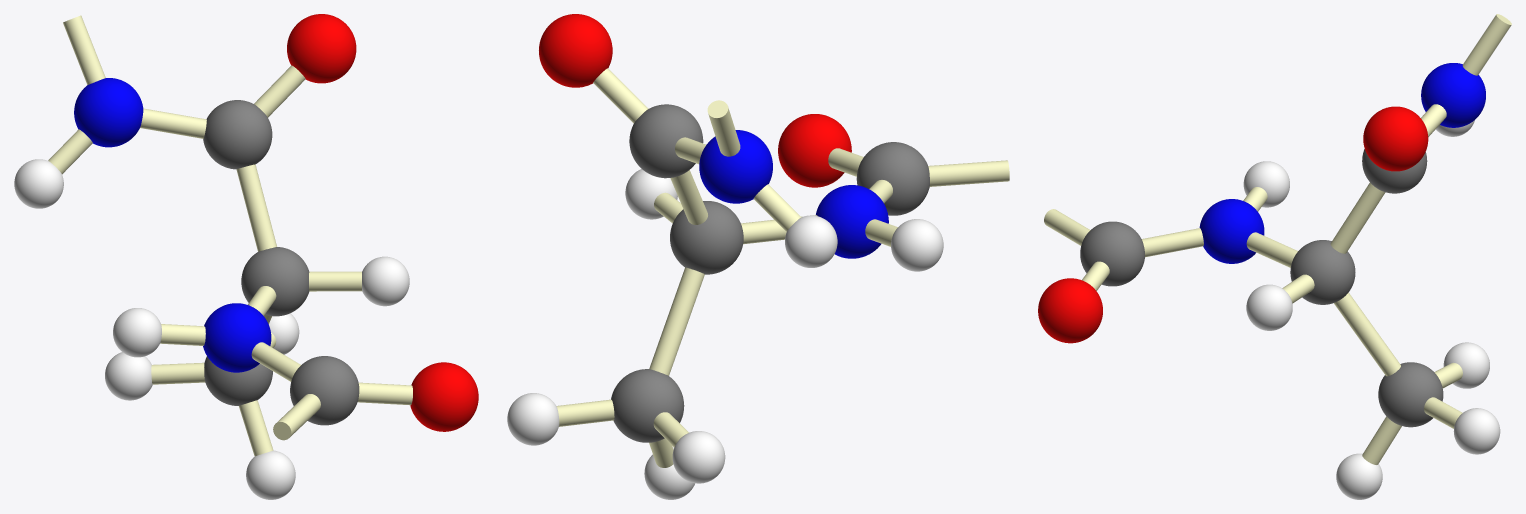
File: conformation.gltf
3 renders of one model, left to right at view 1: azimuth 30°, elevation 25°; view 2: azimuth 150°, elevation 25°; view 3: azimuth 270°, elevation 25°, orthographic. The views are drawn at different scales.
Visible parts, largest first — view 1: ?????????6, ?????????2, ?????????5, ?????????13, ?????????3, ?????????1, ?????????4, ?????????9, ?????????14, ?????????7, ?????????10, ?????????8 (+15 smaller); view 2: ?????????6, ?????????2, ?????????4, ?????????9, ?????????5, ?????????13, ?????????1, ?????????3, ?????????22, ?????????12, ?????????7, ?????????11 (+15 smaller); view 3: ?????????6, ?????????2, ?????????3, ?????????9, ?????????1, ?????????13, ?????????4, ?????????22, ?????????8, ?????????11, ?????????10, ?????????5 (+10 smaller).
Part boxes in pixels (x1,y1,x2,y2): ?????????6: (287, 14, 356, 83); ?????????2: (410, 362, 478, 431); ?????????5: (203, 100, 272, 169); ?????????13: (74, 78, 143, 147); ?????????3: (203, 303, 271, 372); ?????????1: (290, 356, 359, 425); ?????????4: (241, 247, 309, 316); ?????????9: (204, 356, 272, 405); ?????????14: (14, 159, 63, 208); ?????????7: (113, 308, 161, 357); ?????????10: (246, 450, 295, 499); ?????????8: (362, 256, 409, 306); ?????????6: (539, 14, 612, 87); ?????????2: (778, 114, 851, 187); ?????????4: (670, 201, 743, 274); ?????????9: (611, 369, 684, 442); ?????????5: (629, 104, 703, 178); ?????????13: (699, 130, 772, 203); ?????????1: (856, 142, 929, 215); ?????????3: (816, 185, 888, 258); ?????????22: (649, 267, 704, 375); ?????????12: (672, 431, 725, 483); ?????????7: (891, 219, 943, 271); ?????????11: (507, 393, 559, 445); ?????????6: (1363, 106, 1428, 171); ?????????2: (1038, 278, 1102, 343); ?????????3: (1199, 199, 1264, 263); ?????????9: (1378, 362, 1443, 427); ?????????1: (1080, 221, 1144, 286); ?????????13: (1421, 63, 1485, 127); ?????????4: (1290, 240, 1355, 304); ?????????22: (1334, 292, 1400, 376); ?????????8: (1246, 284, 1292, 330); ?????????11: (1453, 408, 1500, 454); ?????????10: (1336, 453, 1382, 499); ?????????5: (1362, 149, 1427, 193).
Bounding box in the file's own units: 35.36 × 50.71 × 50.96.
